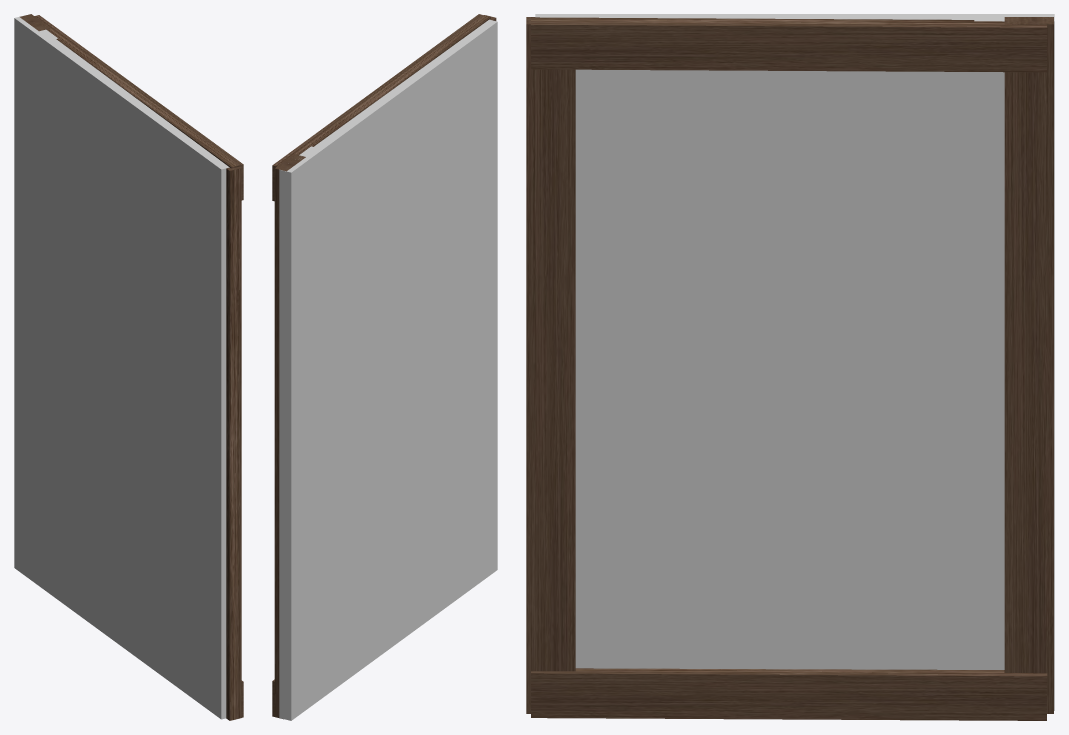
Rendered from Fish.fbx.
3 renders of one model, left to right at view 1: azimuth 30°, elevation 25°; view 2: azimuth 150°, elevation 25°; view 3: azimuth 270°, elevation 25°, orthographic. The views are drawn at different scales.
Parts seen in each view (by area): view 1: Cube, Cube.001, Cube.004; view 2: Cube, Cube.002, Cube.004; view 3: Cube, Cube.002, Cube.001, Cube.004, Cube.003.
Boxes of the visible parts, x1,y1,x2,y2 form: Cube: [14, 15, 229, 719]; Cube.001: [226, 166, 241, 720]; Cube.004: [34, 15, 243, 200]; Cube: [279, 19, 497, 720]; Cube.002: [274, 154, 305, 717]; Cube.004: [272, 14, 490, 201]; Cube: [535, 14, 1054, 710]; Cube.002: [1004, 17, 1053, 713]; Cube.001: [526, 17, 575, 713]; Cube.004: [531, 17, 1047, 72]; Cube.003: [531, 668, 1047, 720].
Size of the model in its own units: 10.52 by 253 by 174.
